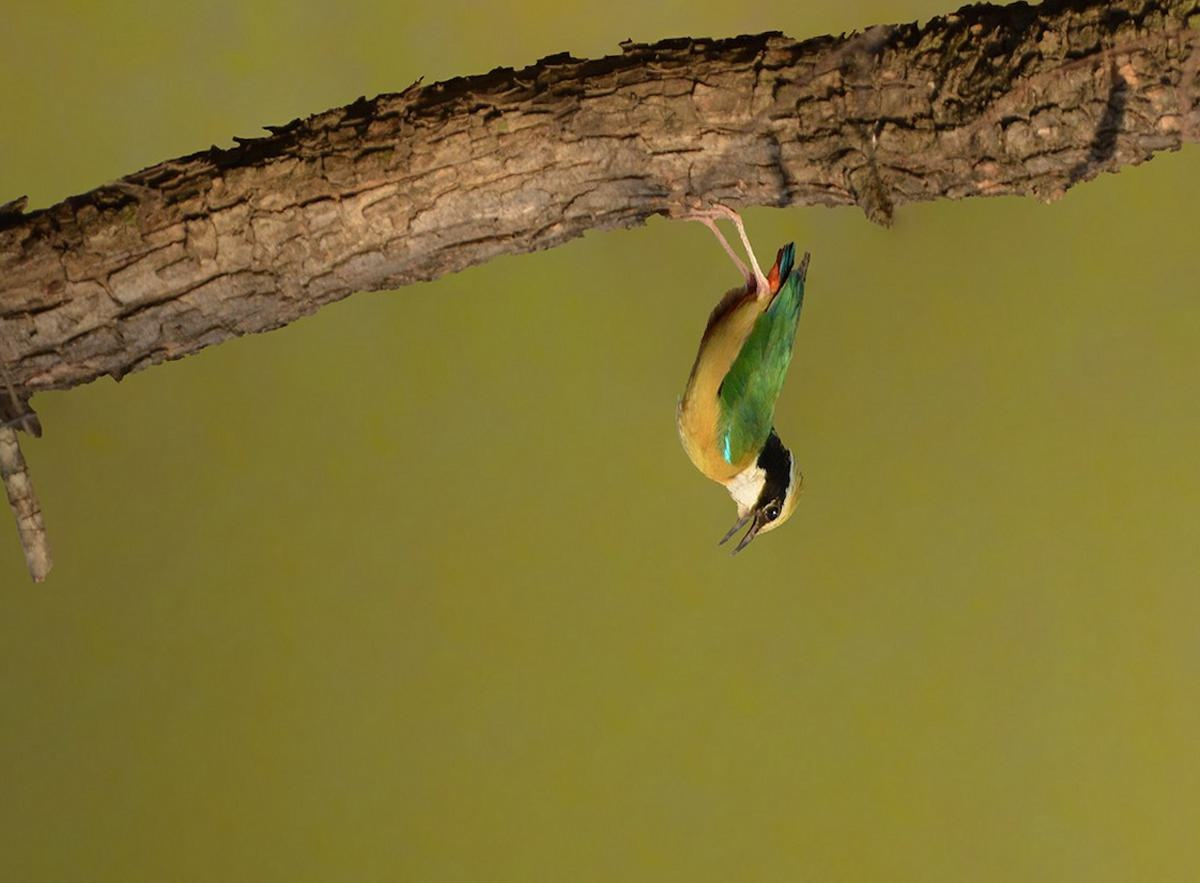pitta: (675, 195, 810, 545)
